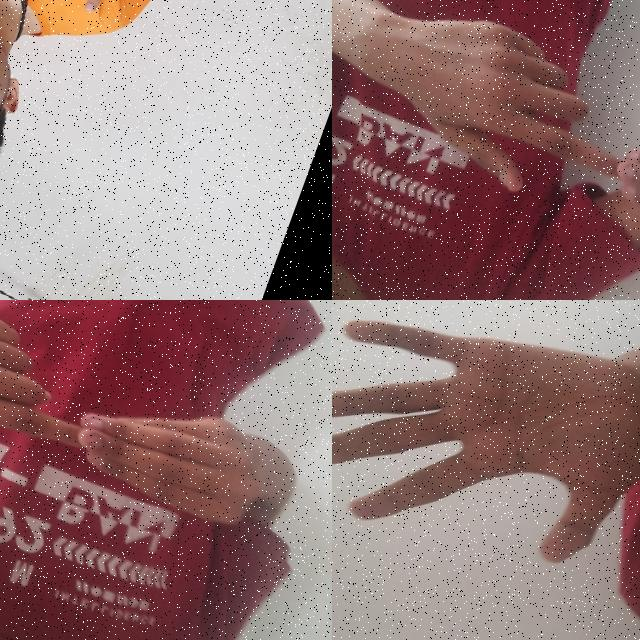Five Fathers: (339, 0, 640, 300), (0, 300, 299, 533)
Middle Finger: (42, 0, 165, 38)
Moutza: (332, 300, 640, 619)
